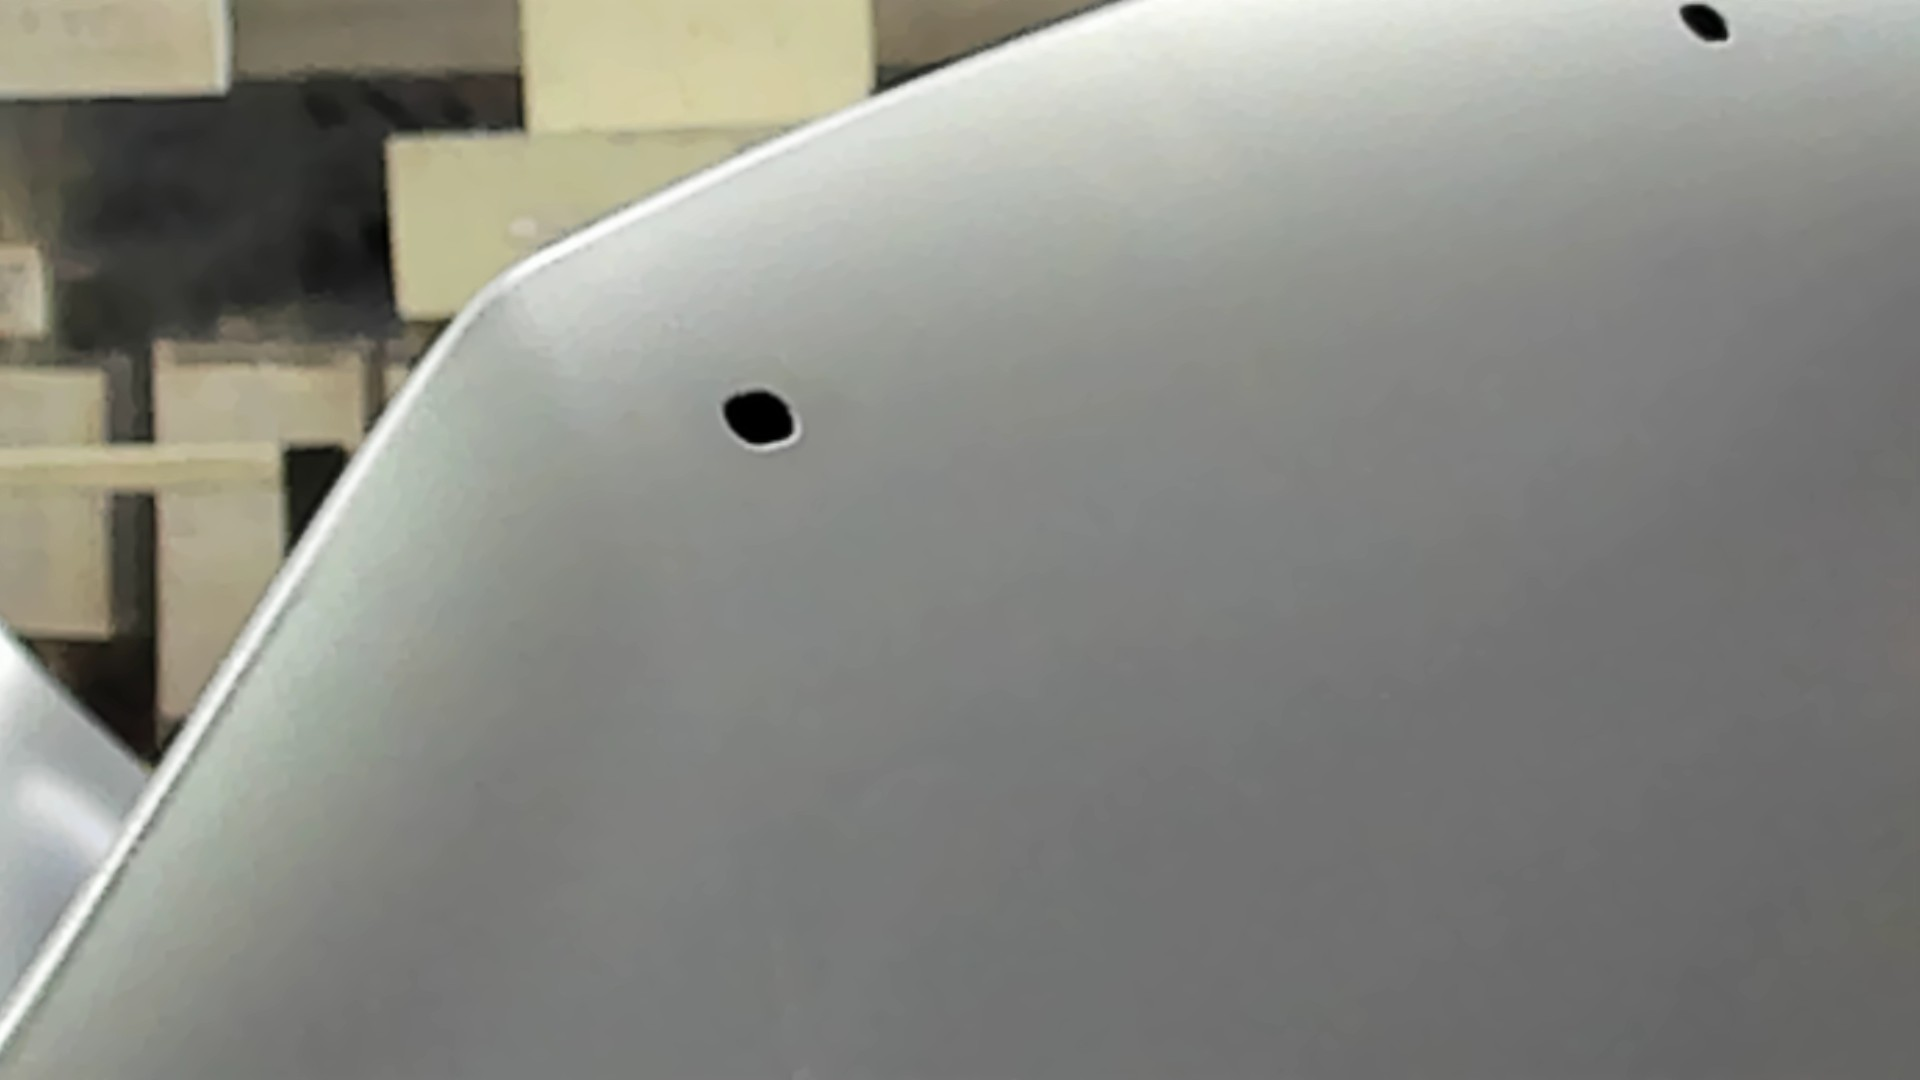amorfo: (713, 382, 807, 455), (1669, 1, 1733, 46)
capo: (887, 109, 1920, 1080)
